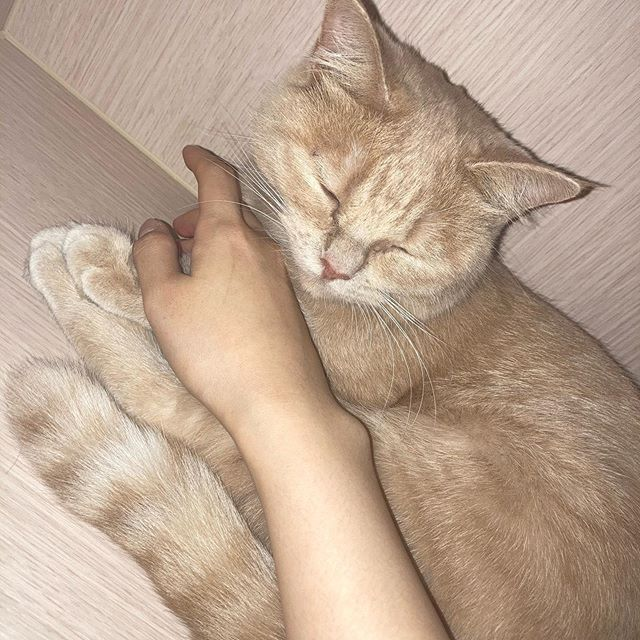cat: (228, 1, 606, 305)
